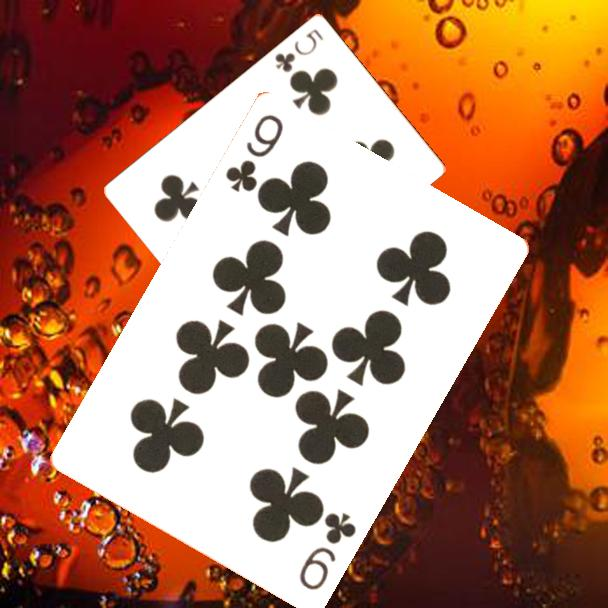c05: (271, 25, 326, 75)
c09: (221, 111, 287, 196), (295, 509, 360, 594)
